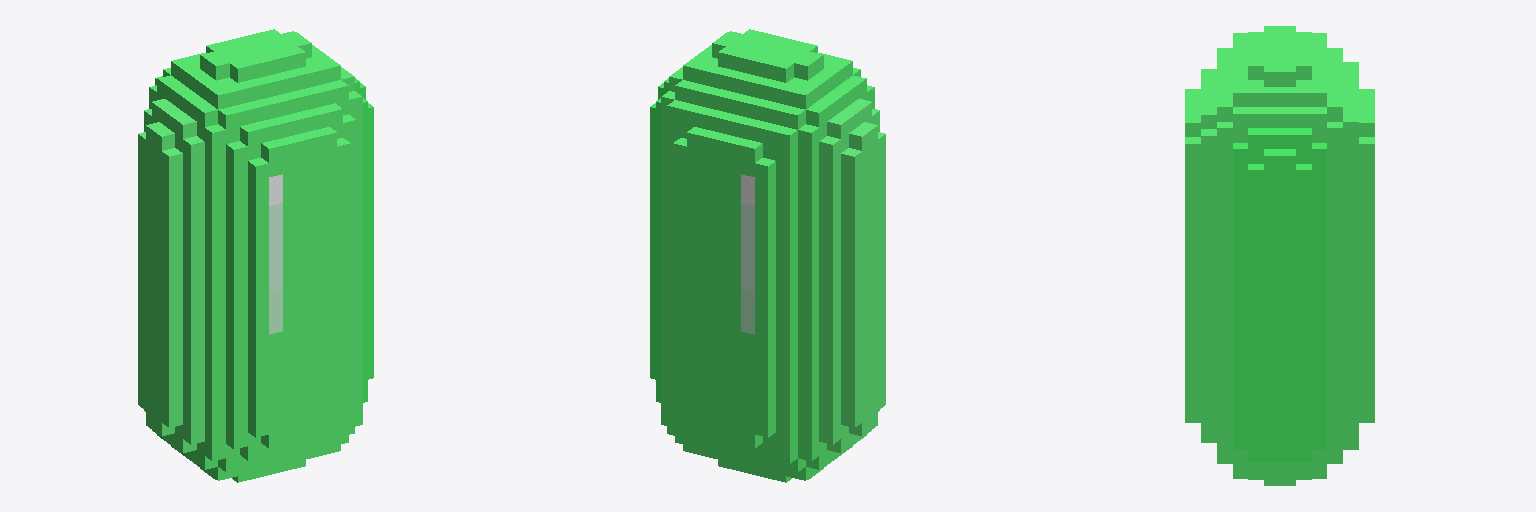
3 views of the same model, side by side, from view 1: azimuth 30°, elevation 25°; view 2: azimuth 150°, elevation 25°; view 3: azimuth 270°, elevation 25° (orthographic).
Visible parts, largest first — view 1: object 1; view 2: object 1; view 3: object 1.
Boxes of the visible parts, <box> form: object 1: <box>138,29,373,482</box>; object 1: <box>650,29,885,482</box>; object 1: <box>1185,26,1374,485</box>.
Bounding box in the file's own units: 1.5 × 2.9 × 1.2.
1 materials, 1 textured.